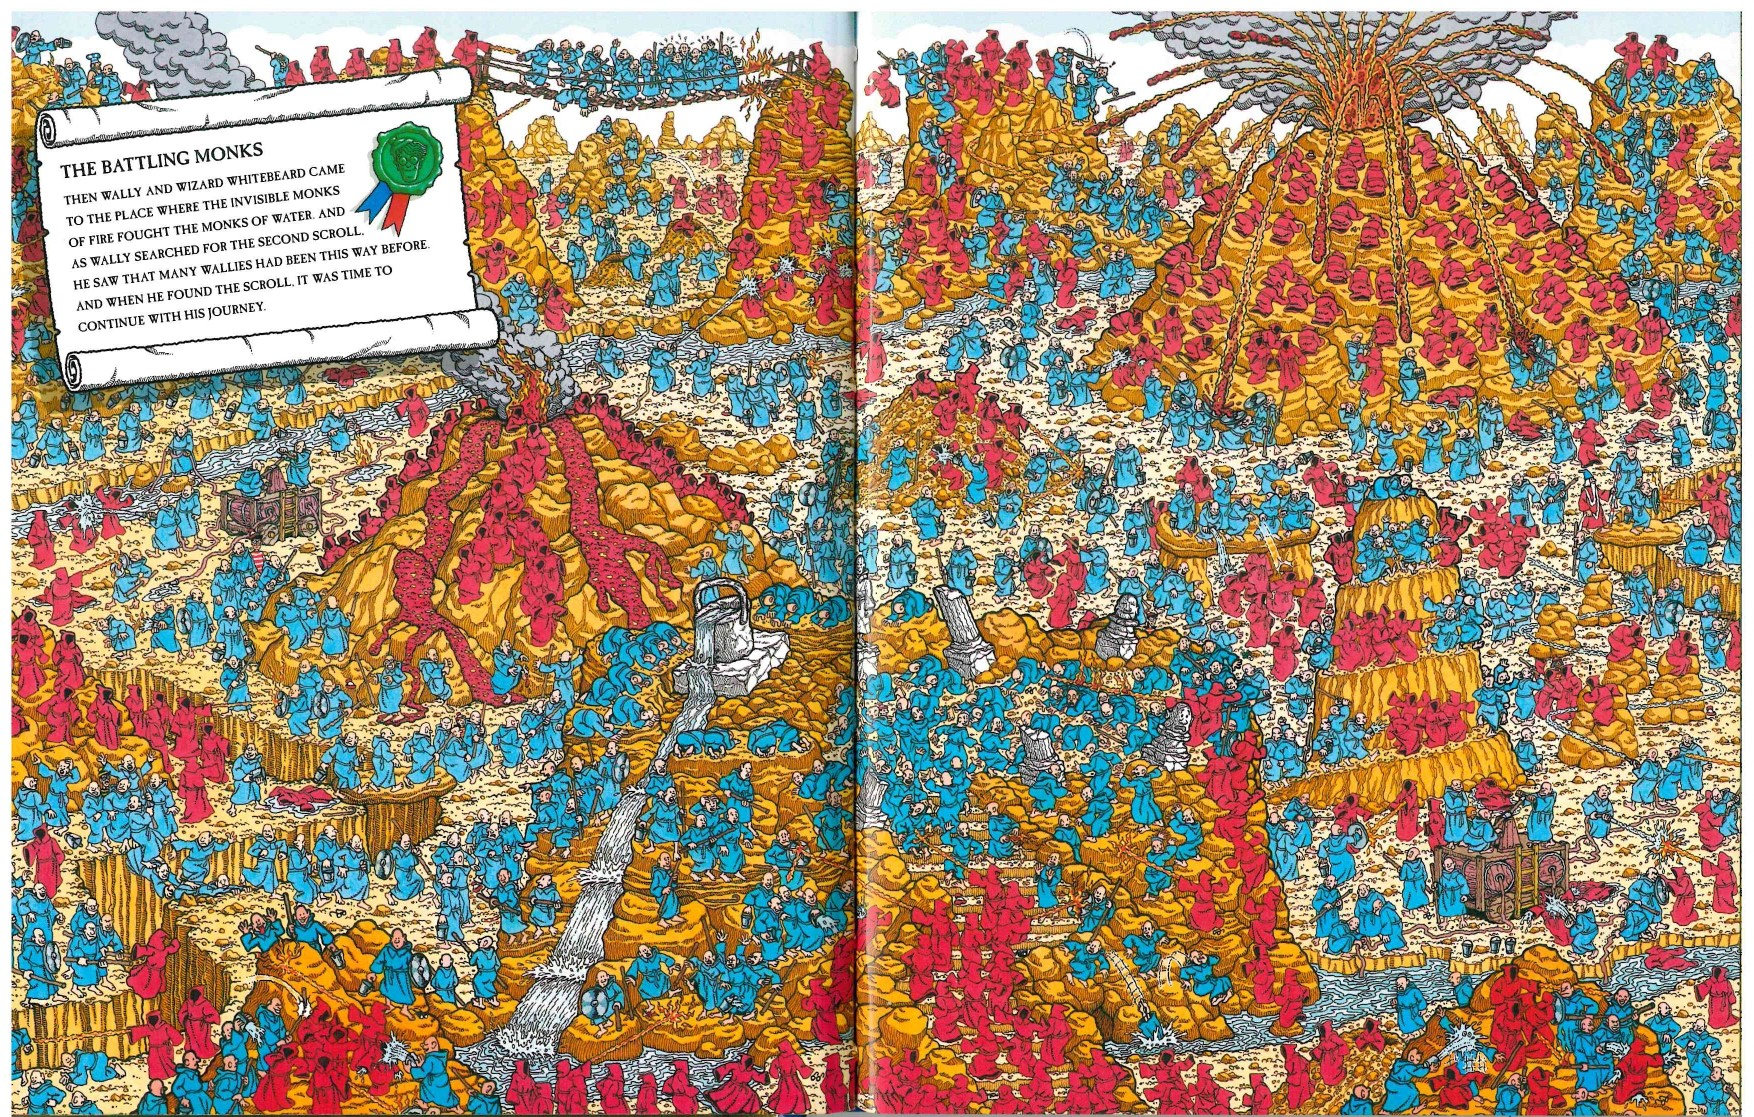waldos: (247, 527, 266, 576)
